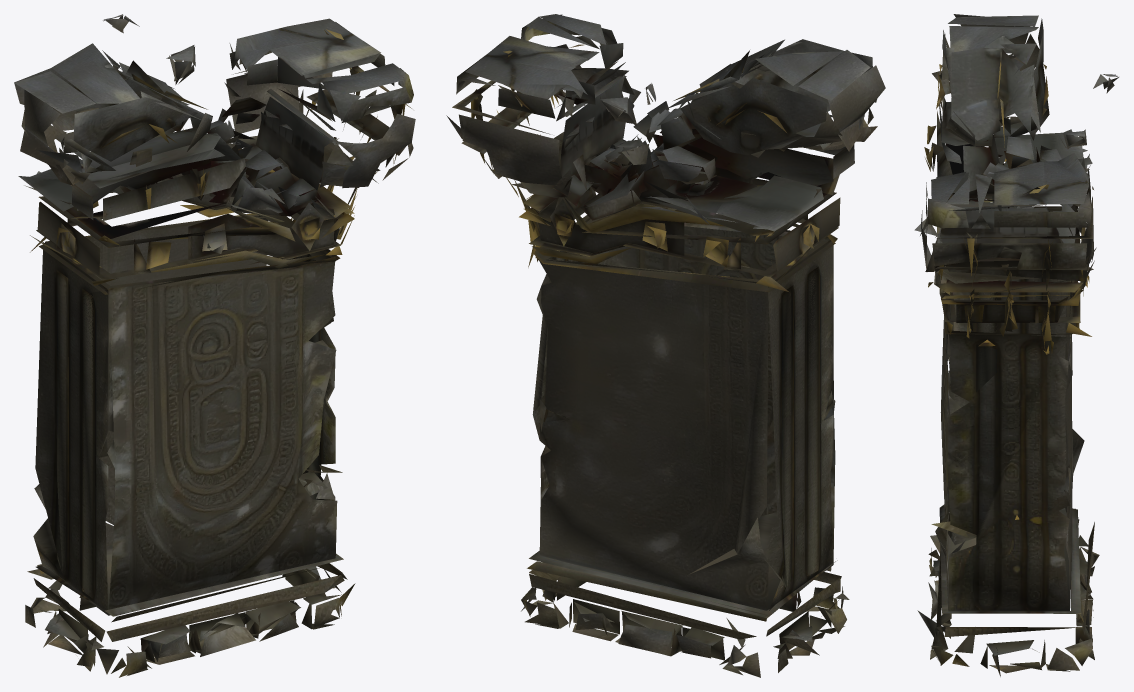
Rendered from ch3_broken_pylon_a_LOD3.glb.
The picture shows the model from 3 angles, left to right: view 1: azimuth 30°, elevation 25°; view 2: azimuth 150°, elevation 25°; view 3: azimuth 270°, elevation 25°; orthographic projection. The views are drawn at different scales.
Visible parts, largest first — view 1: tripo_node_d6c99cd5-9faa-415a-9e3d-cf958fd86ac3; view 2: tripo_node_d6c99cd5-9faa-415a-9e3d-cf958fd86ac3; view 3: tripo_node_d6c99cd5-9faa-415a-9e3d-cf958fd86ac3.
Boxes of the visible parts, x1,y1,x2,y2 form: tripo_node_d6c99cd5-9faa-415a-9e3d-cf958fd86ac3: [14, 14, 415, 677]; tripo_node_d6c99cd5-9faa-415a-9e3d-cf958fd86ac3: [446, 14, 885, 677]; tripo_node_d6c99cd5-9faa-415a-9e3d-cf958fd86ac3: [914, 14, 1118, 676].
Bounding box in the file's own units: 0.6736 × 1.03 × 0.3502.
Materials: 1 (1 with a texture image).
